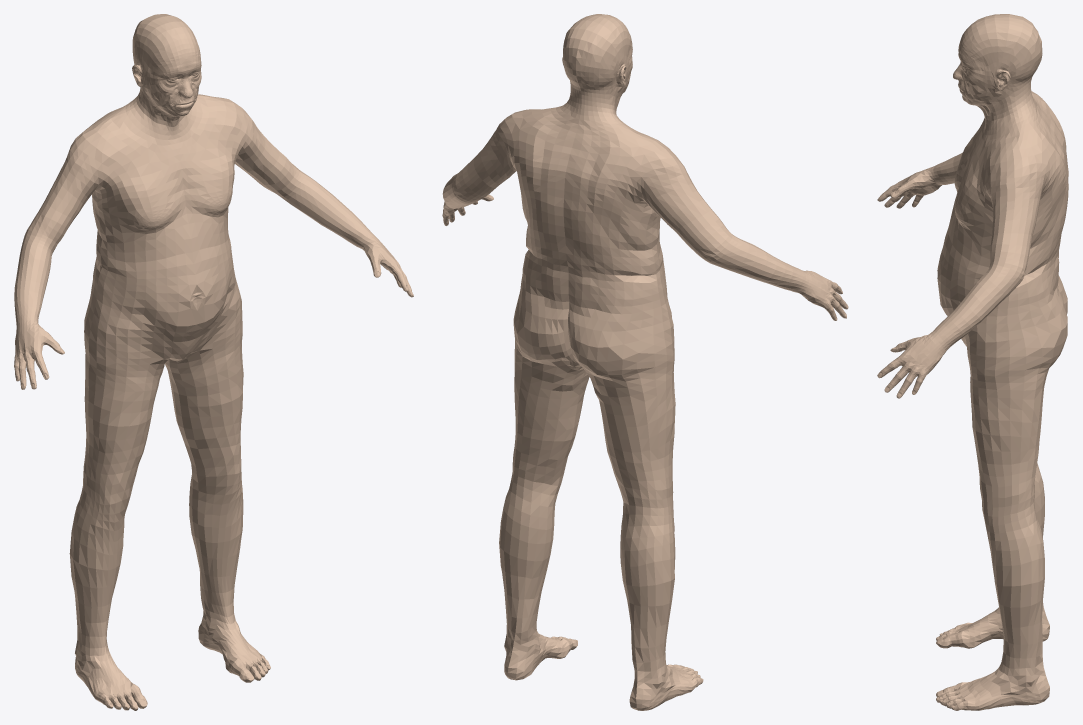
File: male-elder-max-toned.glb
3 views of the same model, side by side, from view 1: azimuth 30°, elevation 25°; view 2: azimuth 150°, elevation 25°; view 3: azimuth 270°, elevation 25° (orthographic).
Parts seen in each view (by area): view 1: world; view 2: world; view 3: world.
Boxes of the visible parts, <box> form: world: <box>14,14,413,710</box>; world: <box>442,14,848,710</box>; world: <box>877,14,1068,710</box>.
Size of the model in its own units: 1.2 by 1.92 by 0.5076.
